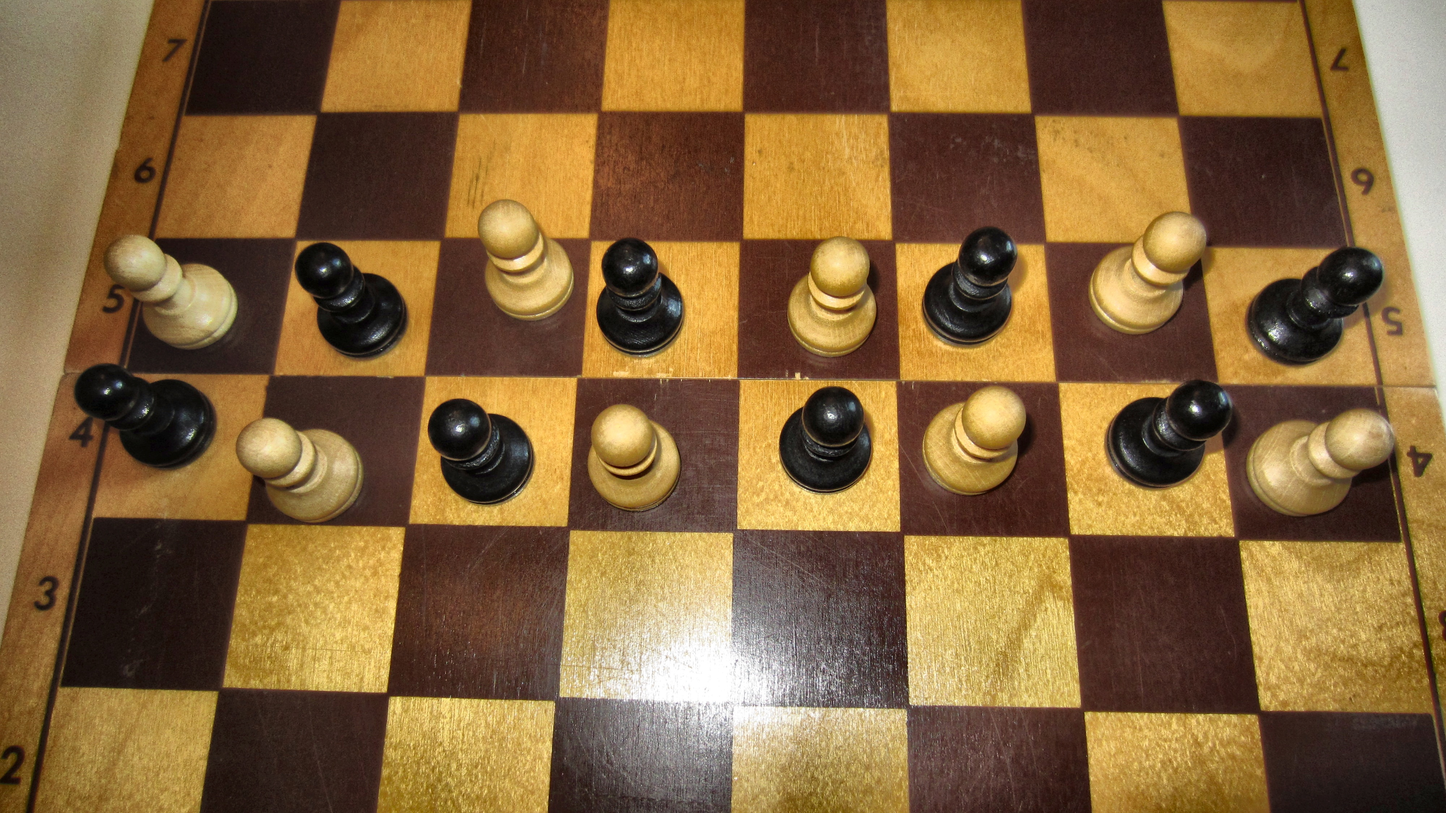black-pawn: (1243, 246, 1386, 367), (73, 362, 218, 472), (1103, 378, 1234, 490), (294, 242, 410, 360), (920, 225, 1019, 348), (427, 397, 537, 506), (595, 237, 685, 359), (777, 386, 874, 496)
white-pawn: (1244, 407, 1396, 518), (102, 234, 239, 350), (1086, 210, 1208, 335), (234, 417, 365, 523), (475, 199, 575, 322), (921, 385, 1027, 496), (785, 235, 878, 358), (586, 403, 682, 514)
